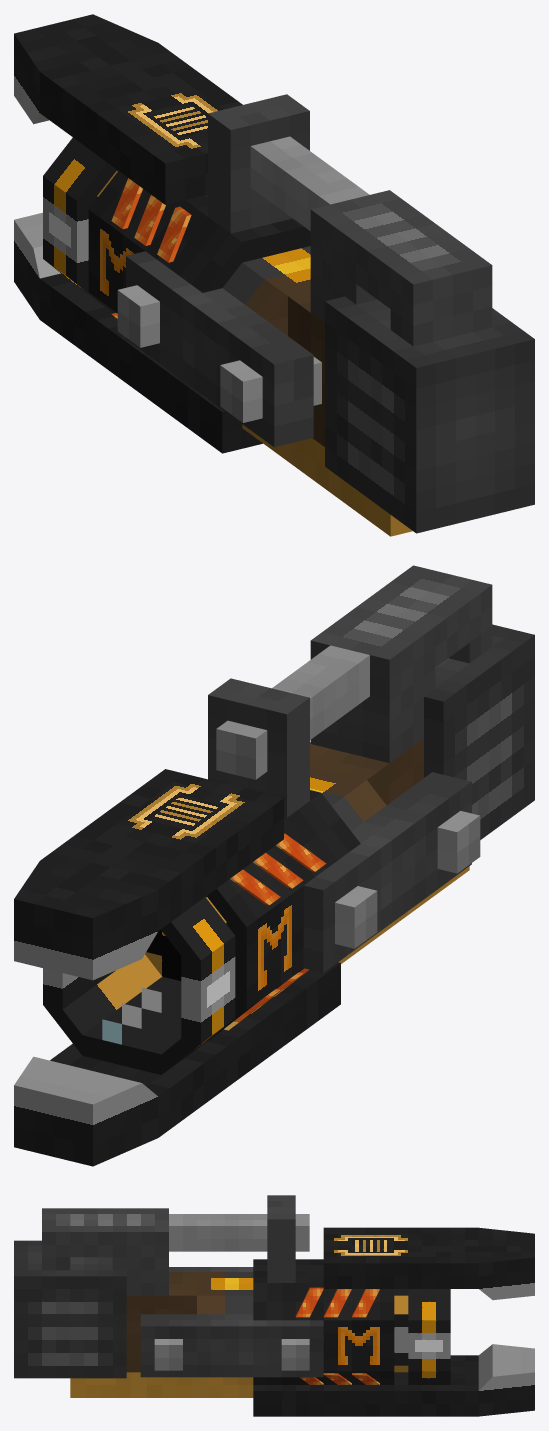
Rendered from laser_drill.obj.
The picture shows the model from 3 angles, top to bottom: view 1: azimuth 30°, elevation 25°; view 2: azimuth 150°, elevation 25°; view 3: azimuth 270°, elevation 25°; orthographic projection. The views are drawn at different scales.
Visible parts, largest first — view 1: Sphere.015, Sphere.005, Sphere.016, Sphere.019, Sphere.004, Sphere.012, Sphere.013, Sphere.010, Sphere.003, Sphere.020, Sphere.014, Sphere.009 (+9 smaller); view 2: Sphere.005, Sphere.015, Sphere.016, Sphere.020, Sphere.019, Sphere.021, Sphere.004, Sphere.003, Sphere.012, Sphere.000, Sphere.013, Sphere.014 (+9 smaller); view 3: Sphere.015, Sphere.005, Sphere.017, Sphere.019, Sphere.004, Sphere.012, Sphere.014, Sphere.003, Sphere.006, Sphere.021, Sphere.020, Sphere.008 (+11 smaller).
Boxes of the visible parts, <box> form: Sphere.015: <box>325,296,534,533</box>; Sphere.005: <box>40,43,242,204</box>; Sphere.016: <box>126,251,313,447</box>; Sphere.019: <box>88,171,310,313</box>; Sphere.004: <box>40,273,262,453</box>; Sphere.012: <box>310,190,469,308</box>; Sphere.013: <box>208,94,309,233</box>; Sphere.010: <box>390,248,492,346</box>; Sphere.003: <box>43,137,117,313</box>; Sphere.020: <box>14,14,157,124</box>; Sphere.014: <box>250,136,369,230</box>; Sphere.009: <box>222,246,310,335</box>; Sphere.005: <box>40,769,283,930</box>; Sphere.015: <box>424,624,534,839</box>; Sphere.016: <box>303,772,471,972</box>; Sphere.020: <box>14,861,158,980</box>; Sphere.019: <box>206,790,360,1041</box>; Sphere.021: <box>14,1056,158,1166</box>; Sphere.004: <box>50,962,340,1137</box>; Sphere.003: <box>43,897,235,1074</box>; Sphere.012: <box>310,582,469,700</box>; Sphere.000: <box>62,896,226,1054</box>; Sphere.013: <box>208,678,309,817</box>; Sphere.014: <box>216,645,369,779</box>; Sphere.015: <box>14,1240,126,1378</box>; Sphere.005: <box>323,1227,478,1288</box>; Sphere.017: <box>140,1314,323,1377</box>; Sphere.019: <box>253,1259,394,1384</box>; Sphere.004: <box>253,1355,478,1416</box>; Sphere.012: <box>70,1208,168,1257</box>; Sphere.014: <box>169,1214,309,1251</box>; Sphere.003: <box>408,1289,450,1384</box>; Sphere.006: <box>70,1372,253,1397</box>; Sphere.021: <box>478,1344,534,1416</box>; Sphere.020: <box>478,1227,534,1300</box>; Sphere.008: <box>126,1272,196,1372</box>.
Size of the model in its own units: 0.75 by 0.9375 by 2.31.
